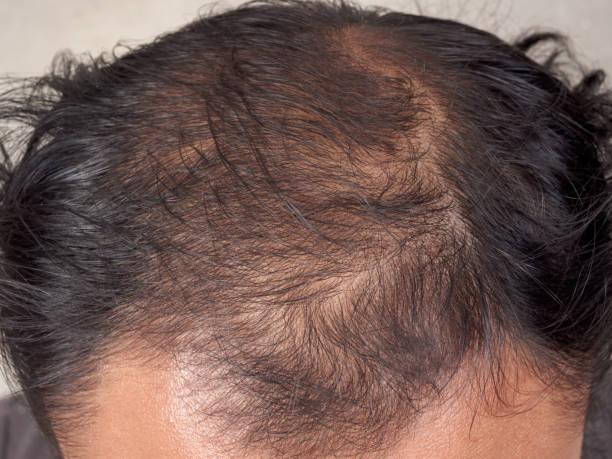low hair density: (228, 245, 403, 353), (292, 119, 451, 201)
